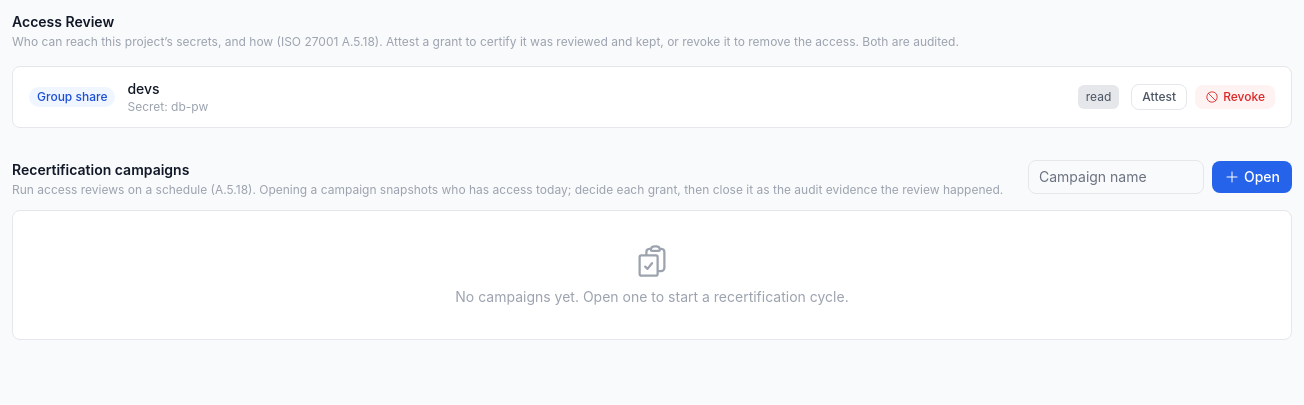
Test case: ProjectAccessReviewTab › shows an error banner when revoke fails
Step 1. Click the button "Revoke" → (1235, 97), box [1195,85,1275,109]
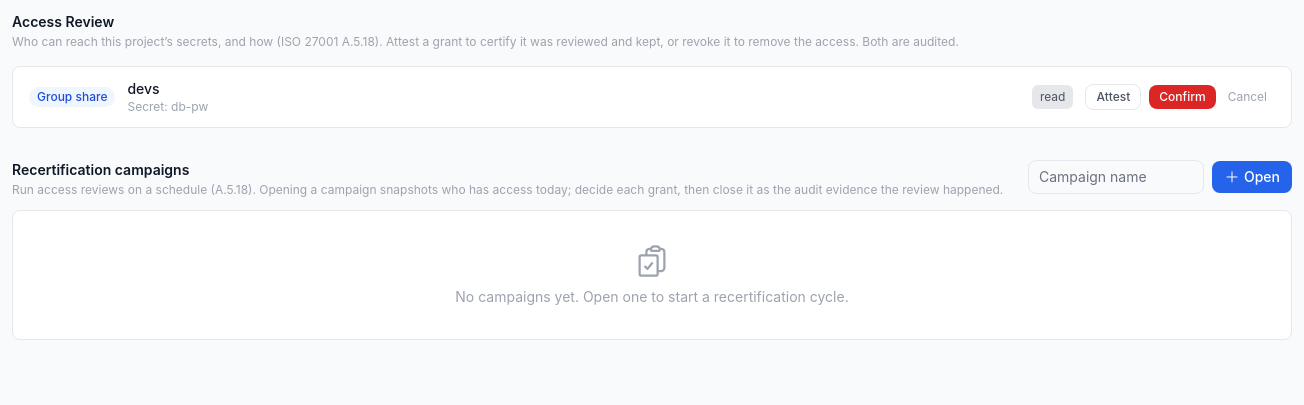
Step 2. Click the button "Confirm" → (1182, 97), box [1149,85,1216,109]
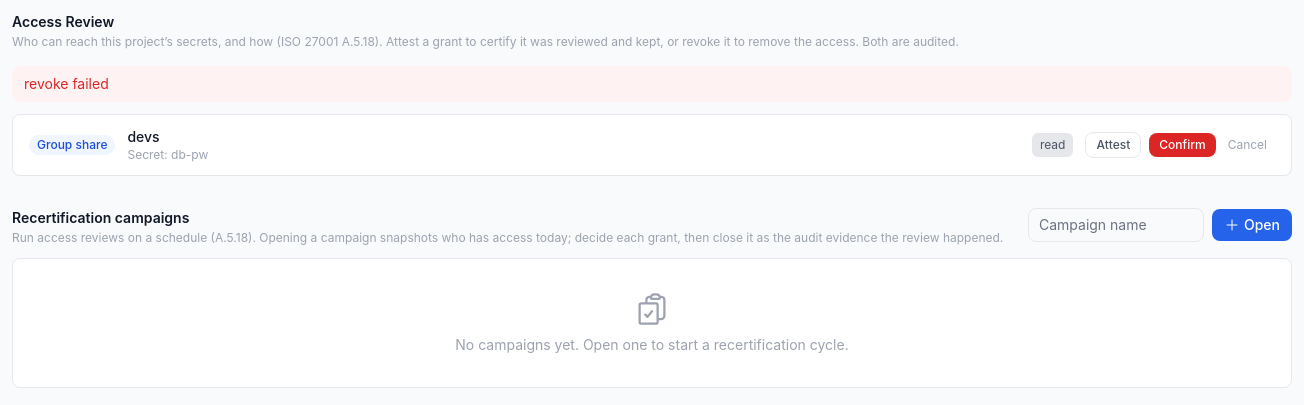
Check: the text "revoke failed" is shown, box [12,66,1292,102]
